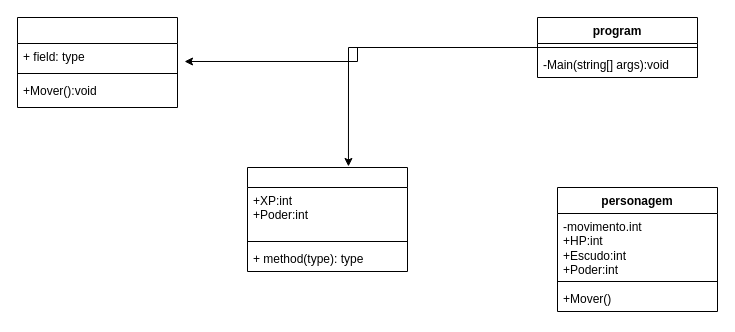
The diagram is 735 pixels wide and 332 high, and some of its shapes have lost their labels. Here are the shapes that lost their labels. From the top down, the box of each, then its label:
(16, 16, 178, 108): inimigo
(246, 166, 408, 272): jogador
